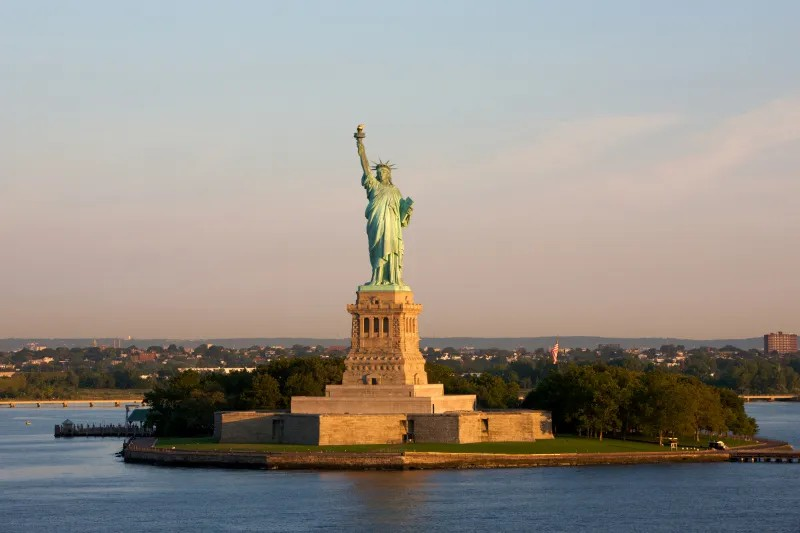SL: (341, 123, 427, 388)
